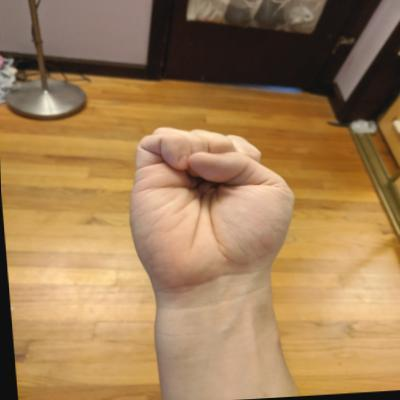hand: (113, 117, 305, 301)
